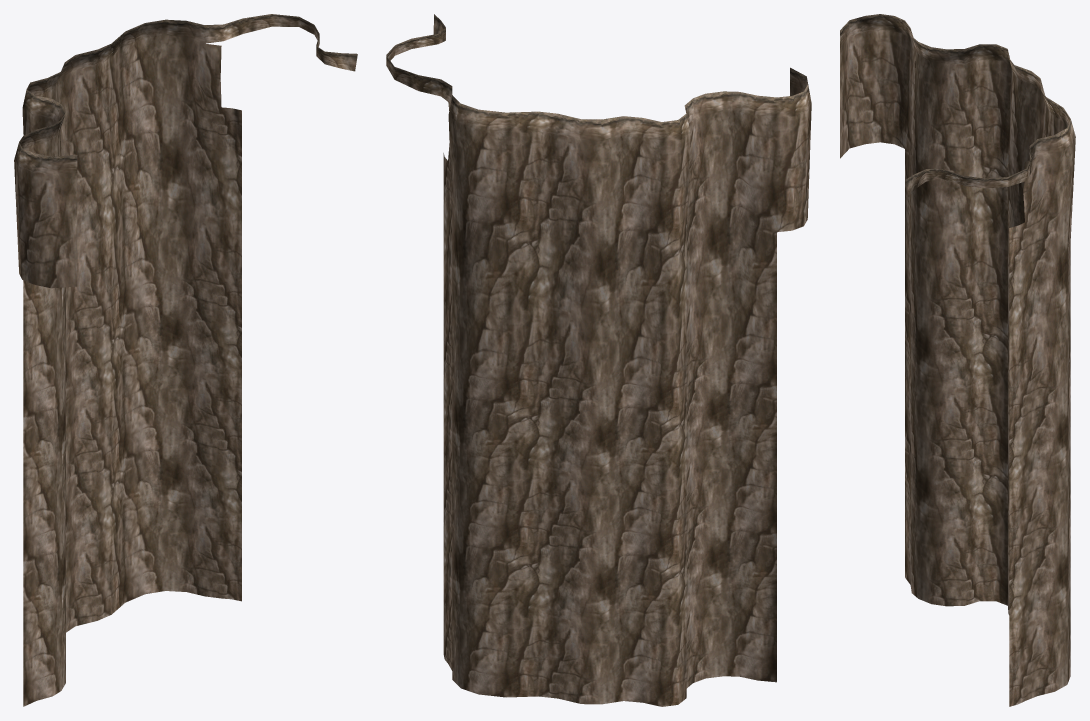
Rendered from OVERHILL_A_01_OBJECT56.fbx.
3 renders of one model, left to right at view 1: azimuth 30°, elevation 25°; view 2: azimuth 150°, elevation 25°; view 3: azimuth 270°, elevation 25°, orthographic. The views are drawn at different scales.
Parts seen in each view (by area): view 1: OVERHILL_A_01_OBJECT56; view 2: OVERHILL_A_01_OBJECT56; view 3: OVERHILL_A_01_OBJECT56.
Boxes of the visible parts, <box> form: OVERHILL_A_01_OBJECT56: <box>14,14,357,706</box>; OVERHILL_A_01_OBJECT56: <box>386,14,811,706</box>; OVERHILL_A_01_OBJECT56: <box>840,14,1075,706</box>.
Bounding box in the file's own units: 214562 × 332876 × 127700.
Materials: 2 (2 with a texture image).
